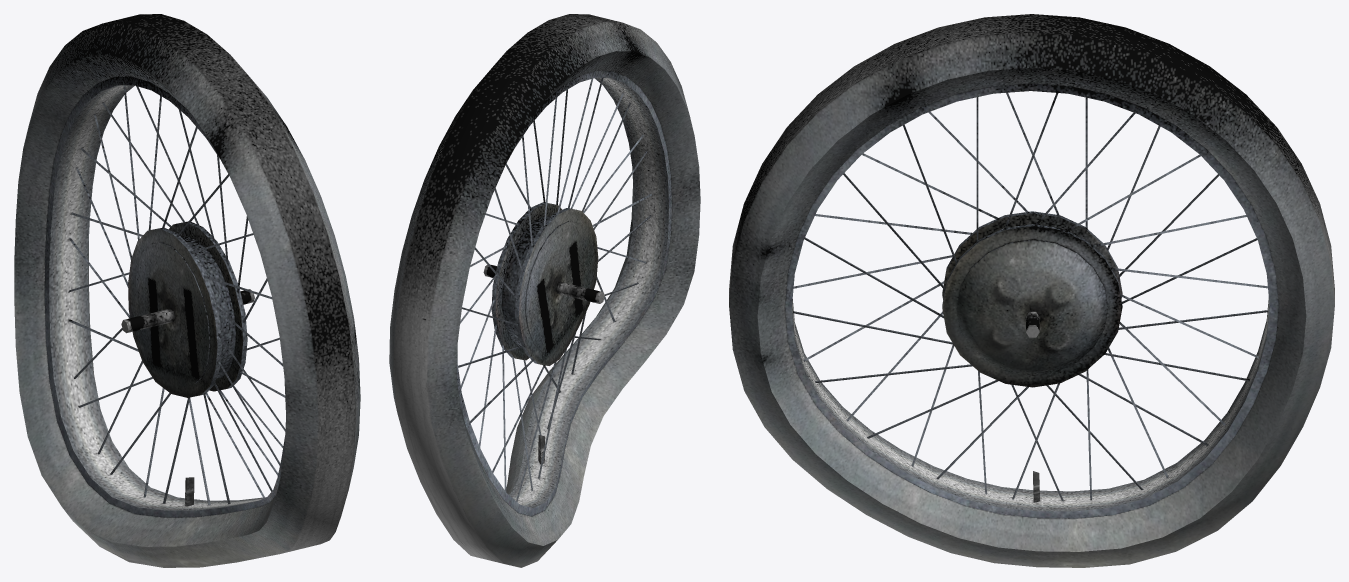
The model's file is BrokenTire.001.fbx.
3 views of the same model, side by side, from view 1: azimuth 30°, elevation 25°; view 2: azimuth 150°, elevation 25°; view 3: azimuth 270°, elevation 25° (orthographic). The views are drawn at different scales.
Parts seen in each view (by area): view 1: BrokenTire.001; view 2: BrokenTire.001; view 3: BrokenTire.001.
Boxes of the visible parts, bbox=[...] form: BrokenTire.001: bbox=[14, 14, 360, 567]; BrokenTire.001: bbox=[389, 14, 700, 567]; BrokenTire.001: bbox=[729, 14, 1334, 567].
Bounding box in the file's own units: 19.04 × 71.31 × 72.11.
